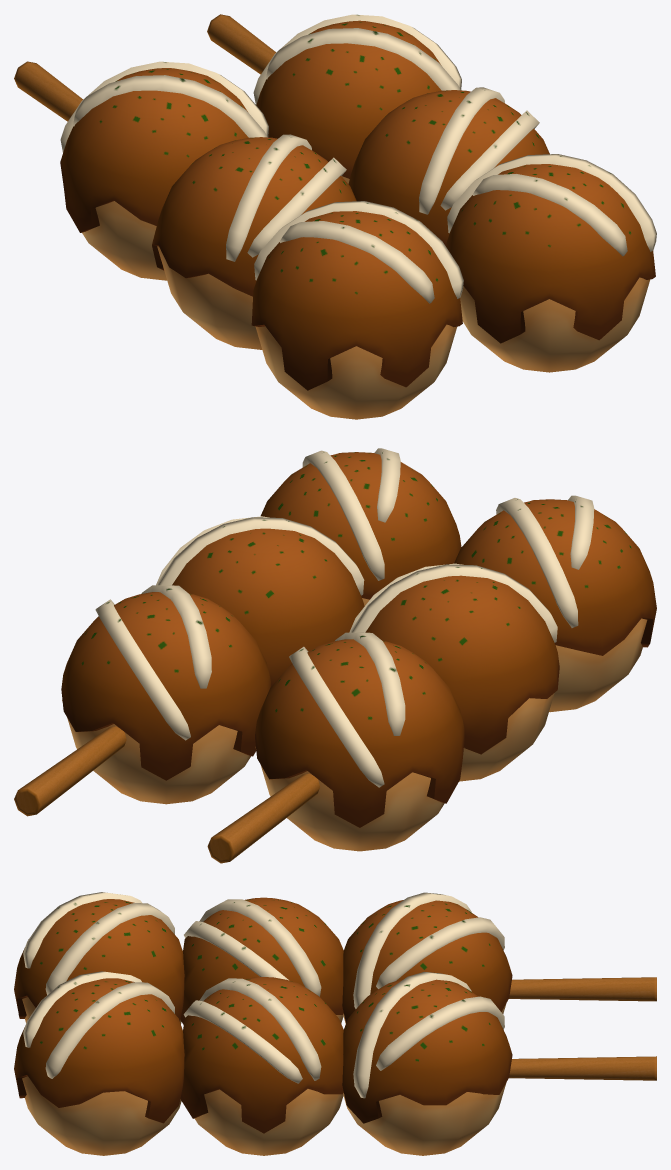
The model's file is Takoyaki.fbx.
The picture shows the model from 3 angles, top to bottom: view 1: azimuth 30°, elevation 25°; view 2: azimuth 150°, elevation 25°; view 3: azimuth 270°, elevation 25°; orthographic projection. The views are drawn at different scales.
Parts seen in each view (by area): view 1: polySurface27, polySurface28; view 2: polySurface27, polySurface28; view 3: polySurface27, polySurface28.
Boxes of the visible parts, x1,y1,x2,y2 form: polySurface27: (60, 14, 656, 419); polySurface28: (14, 14, 275, 121); polySurface27: (61, 448, 656, 851); polySurface28: (14, 726, 319, 863); polySurface27: (14, 892, 512, 1155); polySurface28: (509, 977, 656, 1080).
Size of the model in its own units: 106 by 53.62 by 187.
